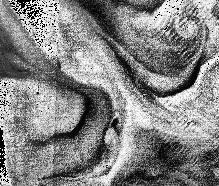CE: (172, 8, 209, 45)
